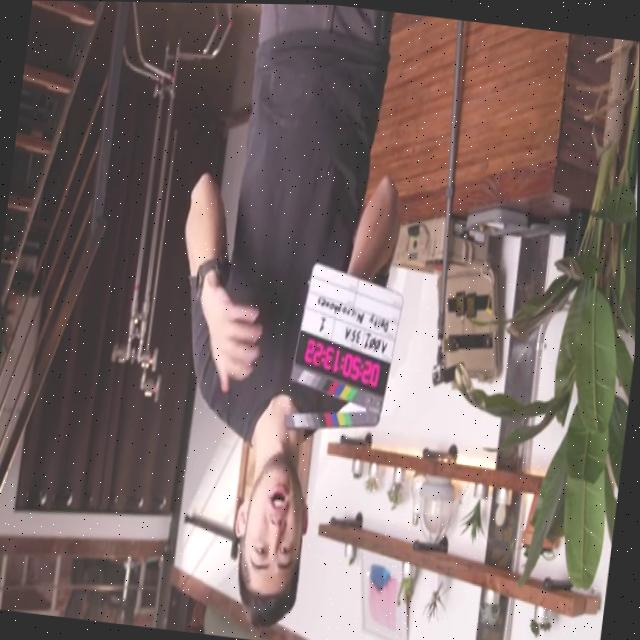Clapperboard: (285, 262, 402, 427)
